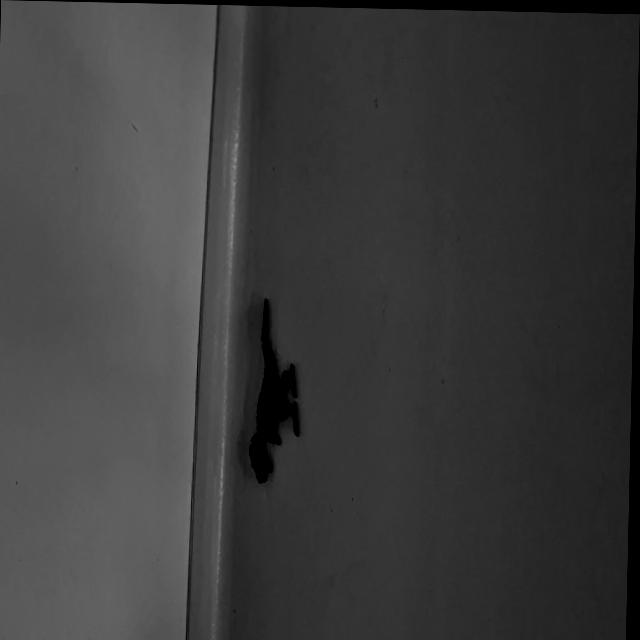dino: (247, 297, 302, 486)
